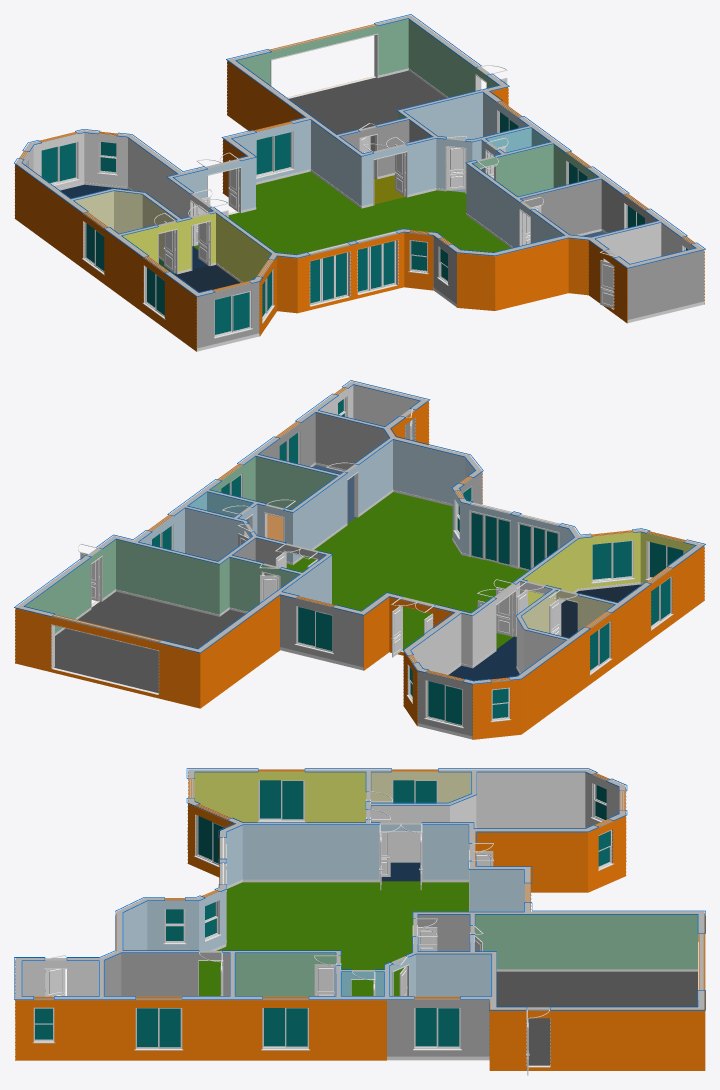
Rendered from floorplan.fbx.
The picture shows the model from 3 angles, top to bottom: view 1: azimuth 30°, elevation 25°; view 2: azimuth 150°, elevation 25°; view 3: azimuth 270°, elevation 25°; orthographic projection. The views are drawn at different scales.
Visible parts, largest first — view 1: Walls, Clad, Floor, Windows and doors, CAD Plan, Trims, BaseBoards, Ledge; view 2: Walls, Floor, Clad, Windows and doors, CAD Plan, Trims, BaseBoards; view 3: Walls, Clad, Floor, Windows and doors, CAD Plan, BaseBoards, Trims, Ledge.
Boxes of the visible parts, x1,y1,x2,y2 form: Walls: (15, 15, 704, 348); Clad: (14, 61, 704, 351); Floor: (60, 70, 704, 351); Windows and doors: (25, 77, 687, 336); CAD Plan: (14, 14, 705, 296); Trims: (158, 33, 614, 308); BaseBoards: (57, 68, 606, 282); Ledge: (52, 168, 448, 338); Walls: (16, 381, 703, 736); Floor: (52, 465, 641, 739); Clad: (15, 401, 704, 739); Windows and doors: (80, 397, 683, 726); CAD Plan: (14, 380, 705, 684); Trims: (51, 417, 578, 693); BaseBoards: (55, 462, 643, 674); Walls: (15, 769, 704, 1056); Clad: (15, 772, 705, 1070); Floor: (199, 862, 697, 1067); Windows and doors: (33, 780, 611, 1075); CAD Plan: (14, 768, 705, 1018); BaseBoards: (211, 827, 697, 971); Trims: (44, 799, 698, 1066); Ledge: (32, 817, 626, 1050).
Bounding box in the file's own units: 22.82 × 2.61 × 26.71.
